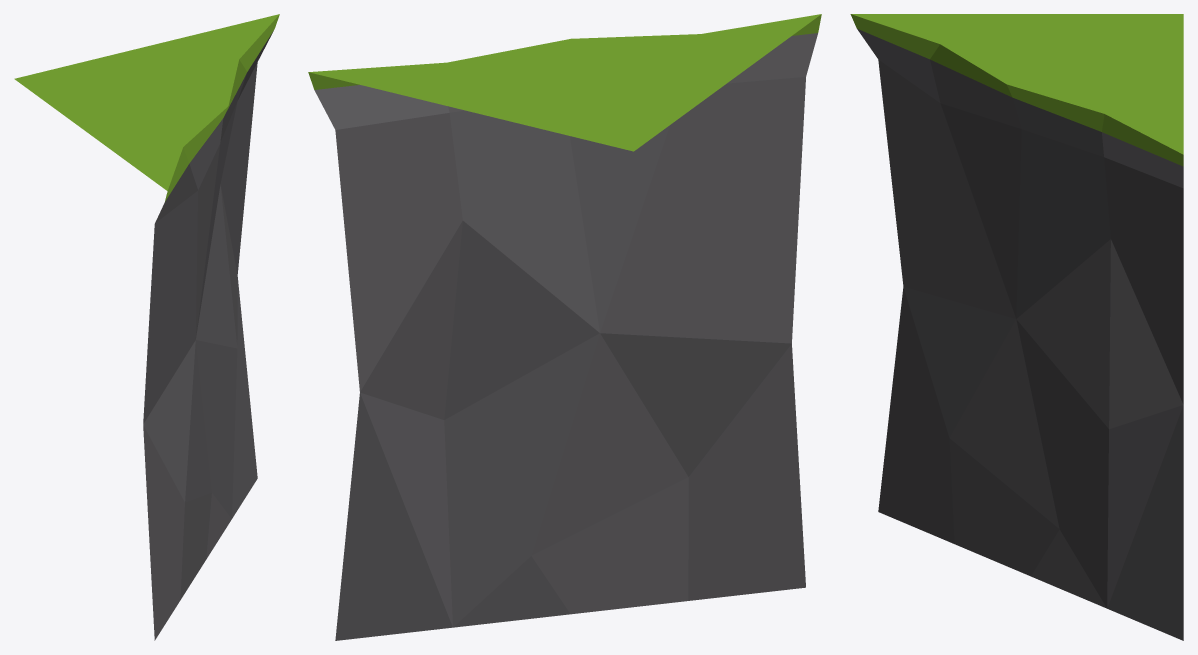
The model's file is mesh_cliff_wall_corner.fbx.
3 views of the same model, side by side, from view 1: azimuth 30°, elevation 25°; view 2: azimuth 150°, elevation 25°; view 3: azimuth 270°, elevation 25° (orthographic). The views are drawn at different scales.
Parts seen in each view (by area): view 1: mesh_cliff_wall_corner; view 2: mesh_cliff_wall_corner; view 3: mesh_cliff_wall_corner.
Boxes of the visible parts, bbox=[...] form: mesh_cliff_wall_corner: bbox=[14, 14, 279, 640]; mesh_cliff_wall_corner: bbox=[308, 14, 821, 640]; mesh_cliff_wall_corner: bbox=[850, 14, 1183, 640].
Size of the model in its own units: 133 by 219 by 133.
